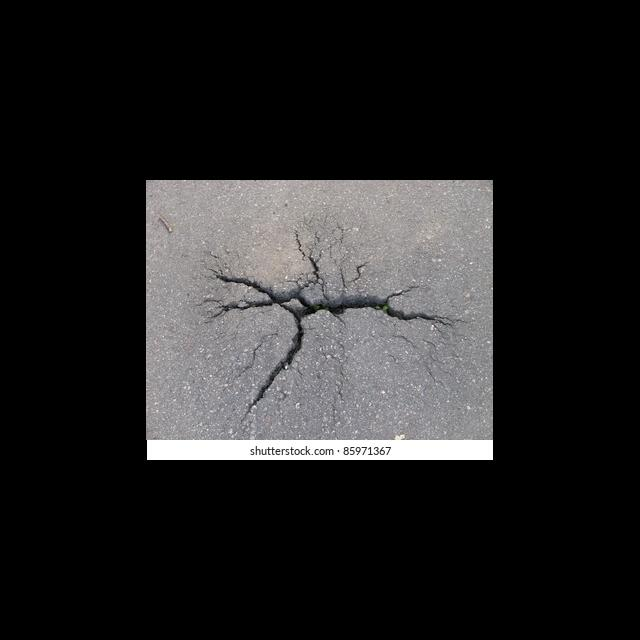retak_kulit_buaya: (188, 225, 446, 415)
